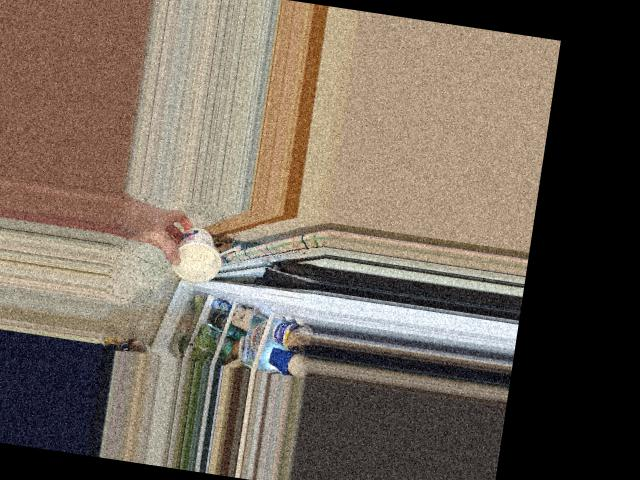cotage: (172, 225, 225, 283)
